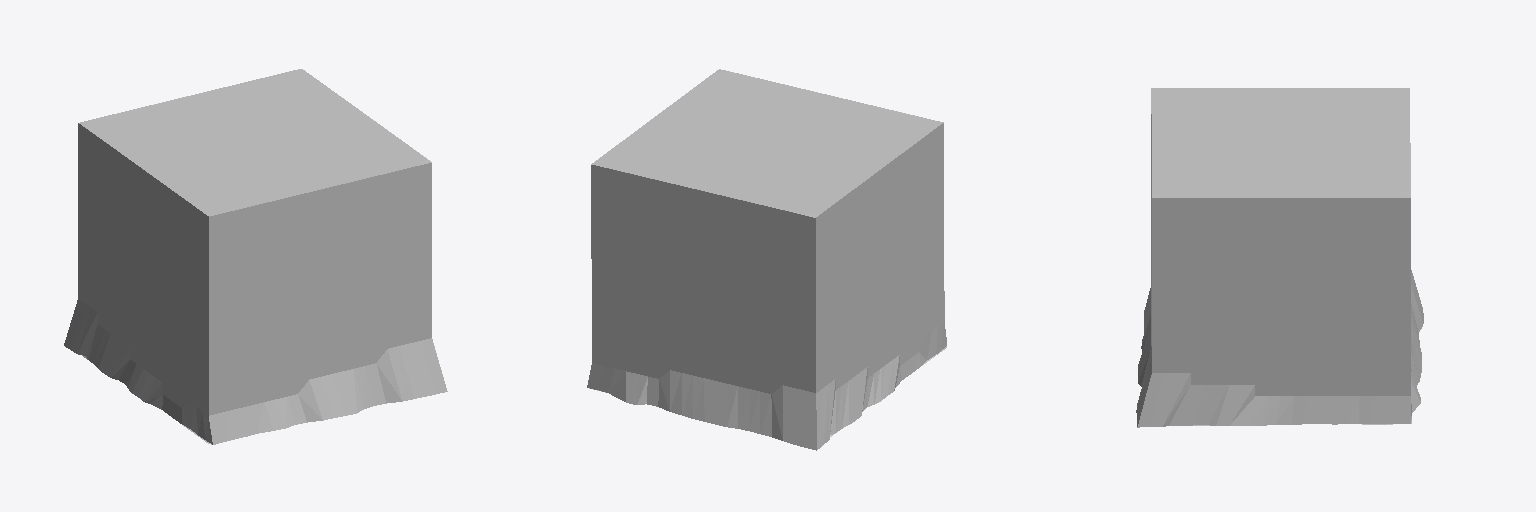
Rendered from mod0200.obj.
The picture shows the model from 3 angles: view 1: azimuth 30°, elevation 25°; view 2: azimuth 150°, elevation 25°; view 3: azimuth 270°, elevation 25°; orthographic projection.
Visible parts, largest first — view 1: Box001; view 2: Box001; view 3: Box001.
Part boxes in pixels (x1,y1,x2,y2): Box001: (64,69,447,444); Box001: (587,69,946,450); Box001: (1136,88,1423,427).
Size of the model in its own units: 0.5799 by 0.5217 by 0.5979.